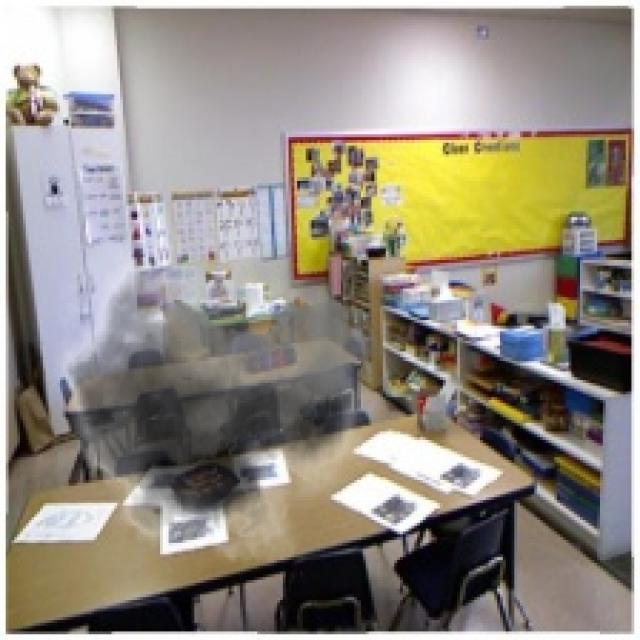Smoke: (37, 197, 383, 583)
